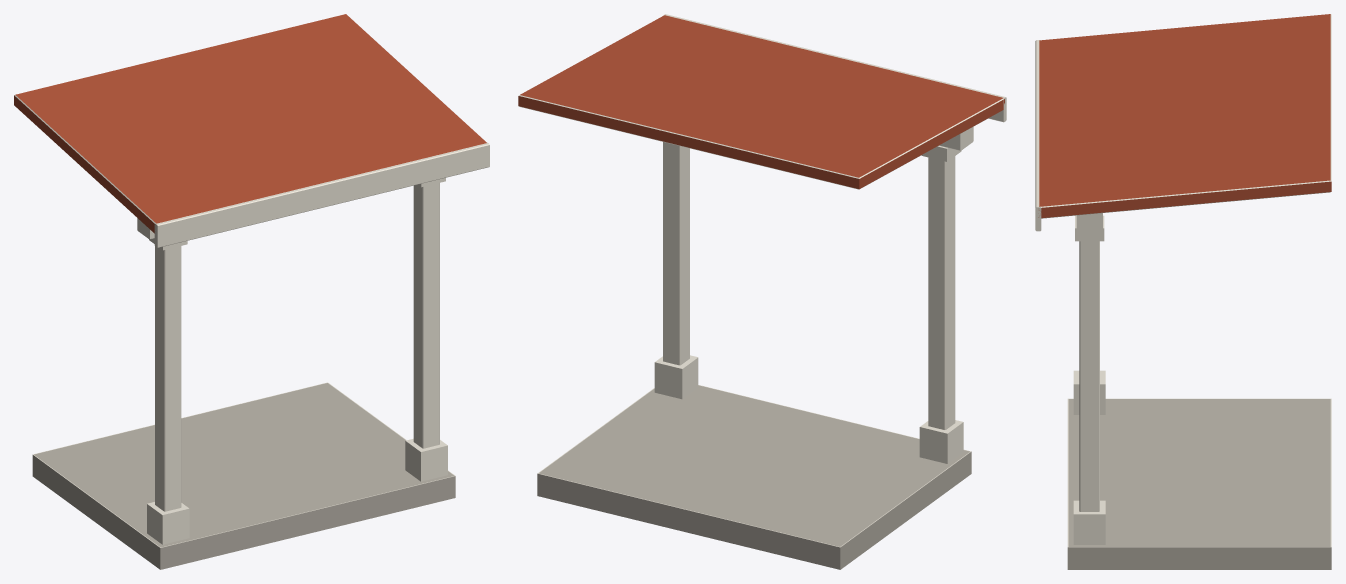
Rendered from kit_porch.obj.
3 renders of one model, left to right at view 1: azimuth 30°, elevation 25°; view 2: azimuth 150°, elevation 25°; view 3: azimuth 270°, elevation 25°, orthographic. The views are drawn at different scales.
Parts seen in each view (by area): view 1: kit_porch; view 2: kit_porch; view 3: kit_porch.
Boxes of the visible parts, x1,y1,x2,y2 form: kit_porch: [14, 14, 489, 569]; kit_porch: [518, 14, 1006, 569]; kit_porch: [1035, 14, 1331, 569].
Size of the model in its own units: 2.7 by 3 by 2.02.
